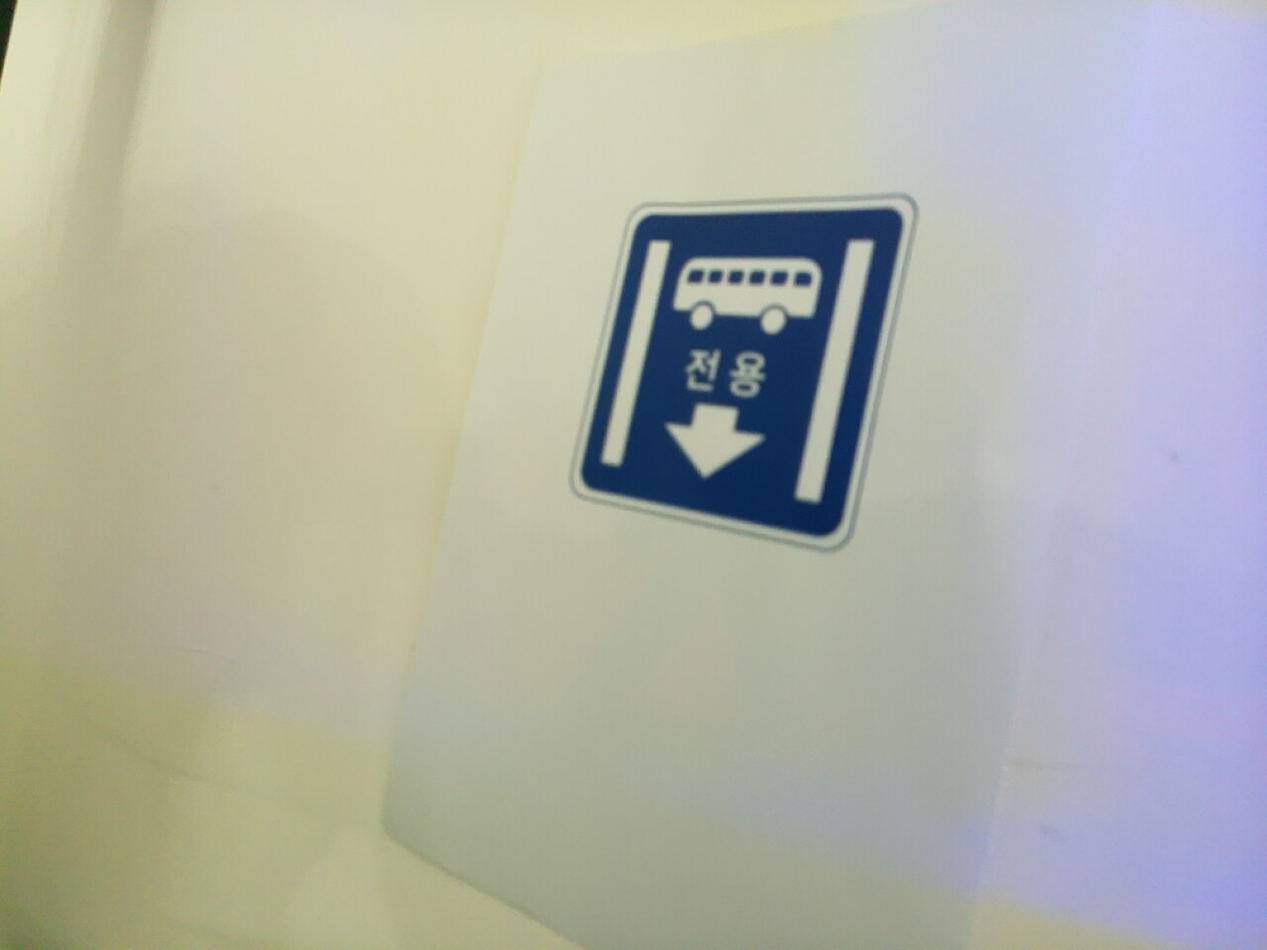bus_only_lane: (571, 197, 913, 547)
